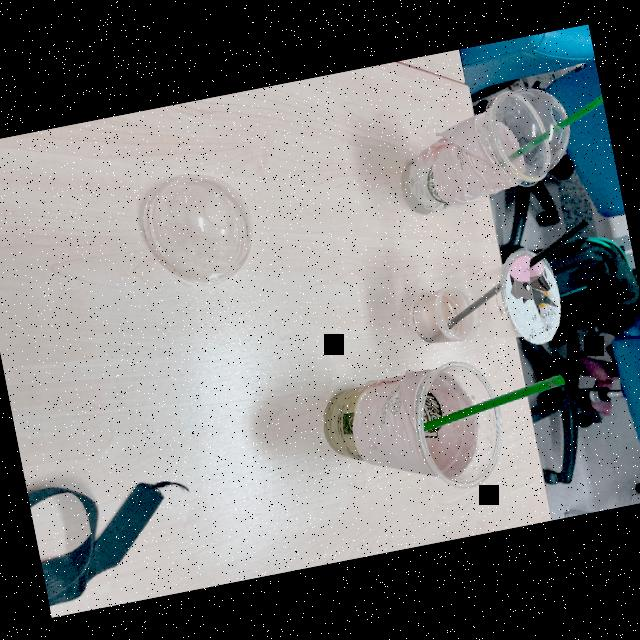plastic_cup: (305, 352, 512, 518), (387, 77, 568, 239), (396, 242, 564, 358)
plastic_cup_lid: (130, 156, 271, 300), (487, 68, 580, 190)
straw: (423, 212, 614, 334), (401, 354, 582, 446), (488, 86, 612, 172)
